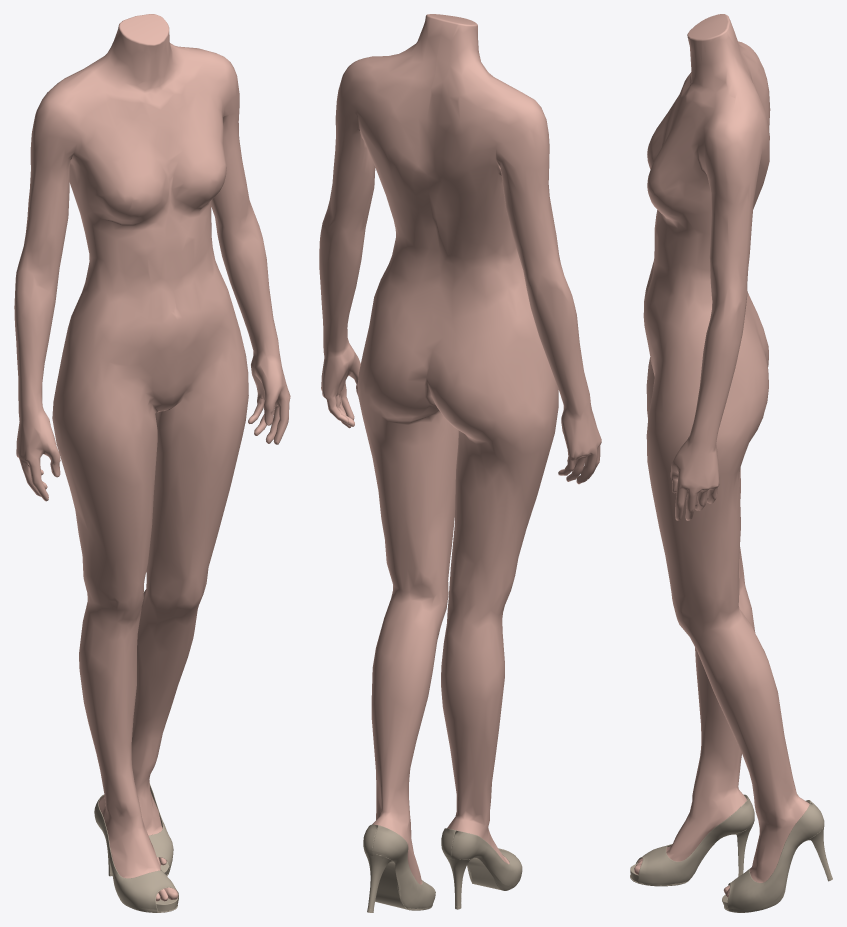
File: trench_coat_body2.glb
3 renders of one model, left to right at view 1: azimuth 30°, elevation 25°; view 2: azimuth 150°, elevation 25°; view 3: azimuth 270°, elevation 25°, orthographic. The views are drawn at different scales.
Visible parts, largest first — view 1: shoes_r_Node; view 2: shoes_r_Node; view 3: shoes_r_Node.
Part boxes in pixels (x1,y1,x2,y2): shoes_r_Node: (14, 14, 290, 912); shoes_r_Node: (319, 14, 601, 912); shoes_r_Node: (630, 14, 832, 912).
Size of the model in its own units: 53.57 by 168 by 35.22.
